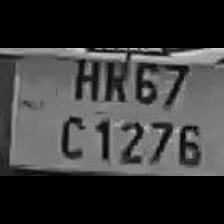1: (90, 112, 114, 162)
2: (115, 114, 145, 166)
6: (129, 55, 159, 106), (173, 119, 203, 167)
7: (158, 56, 188, 110), (144, 116, 170, 166)
C: (54, 110, 86, 160)
H: (66, 52, 102, 102)
R: (99, 54, 129, 104)
